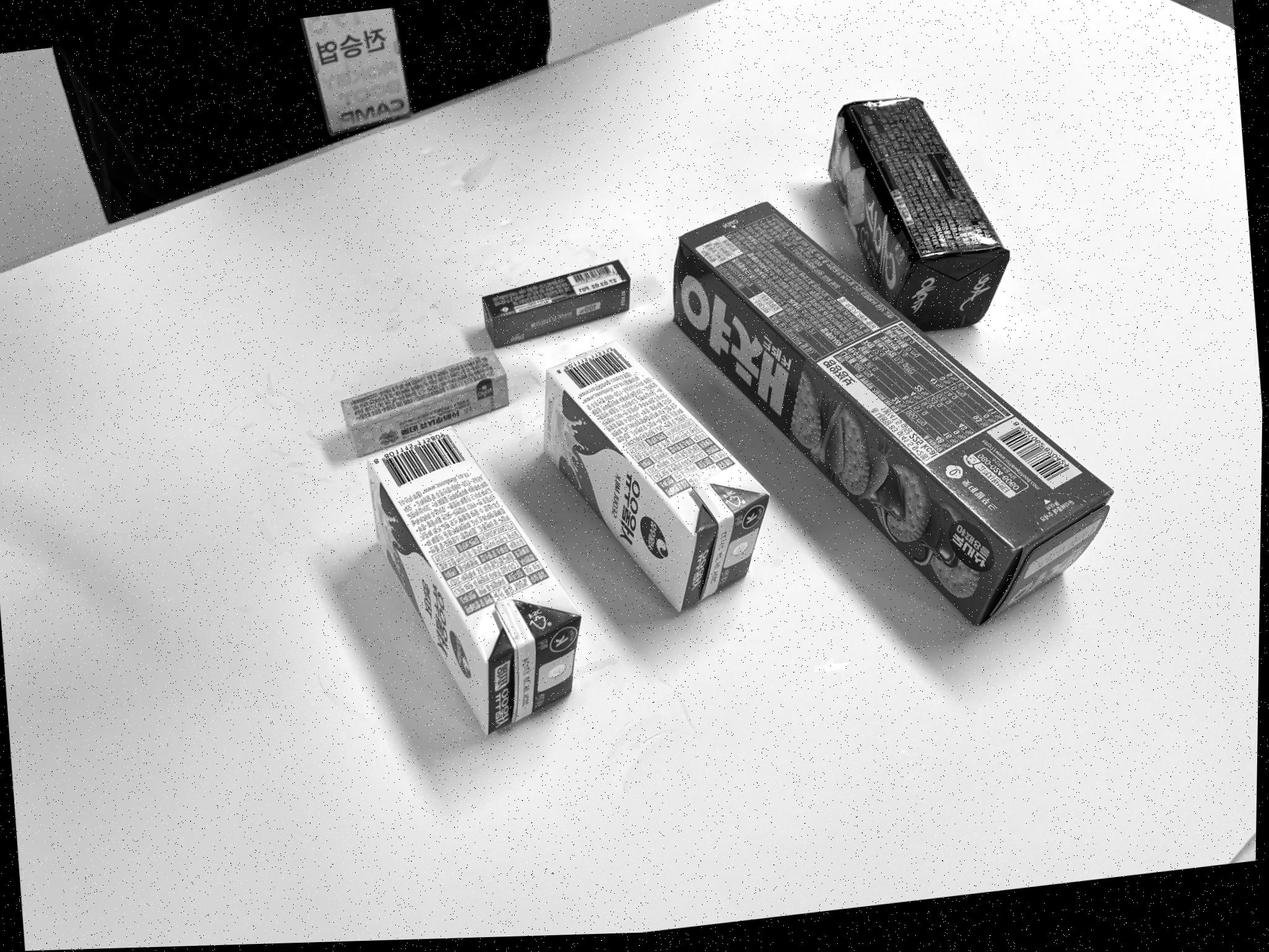cracker_ace: (825, 97, 1012, 332)
cracker_vege: (670, 200, 1110, 633)
gum_green: (482, 261, 630, 347)
gum_yellow: (342, 352, 509, 456)
milk_blue: (383, 434, 463, 485)
milk_green: (542, 340, 766, 612)
